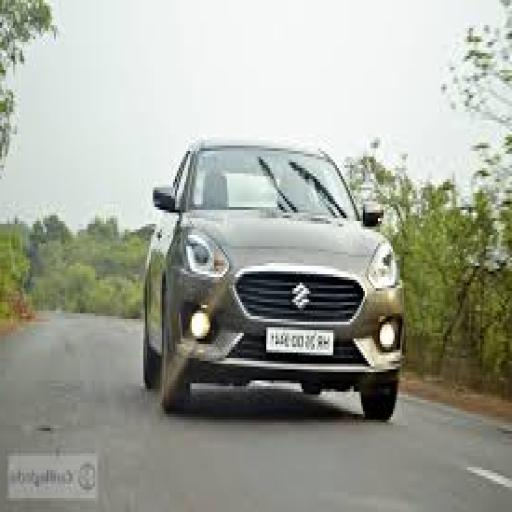License: (261, 325, 335, 355)
